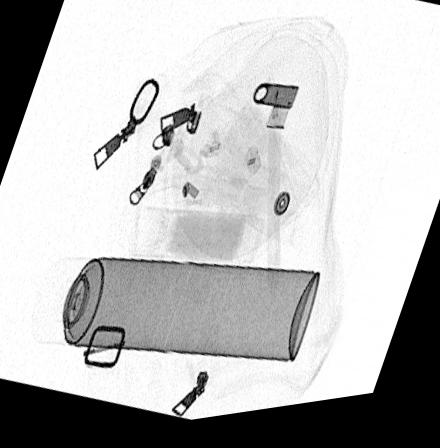Sprayer: (29, 259, 319, 370)
